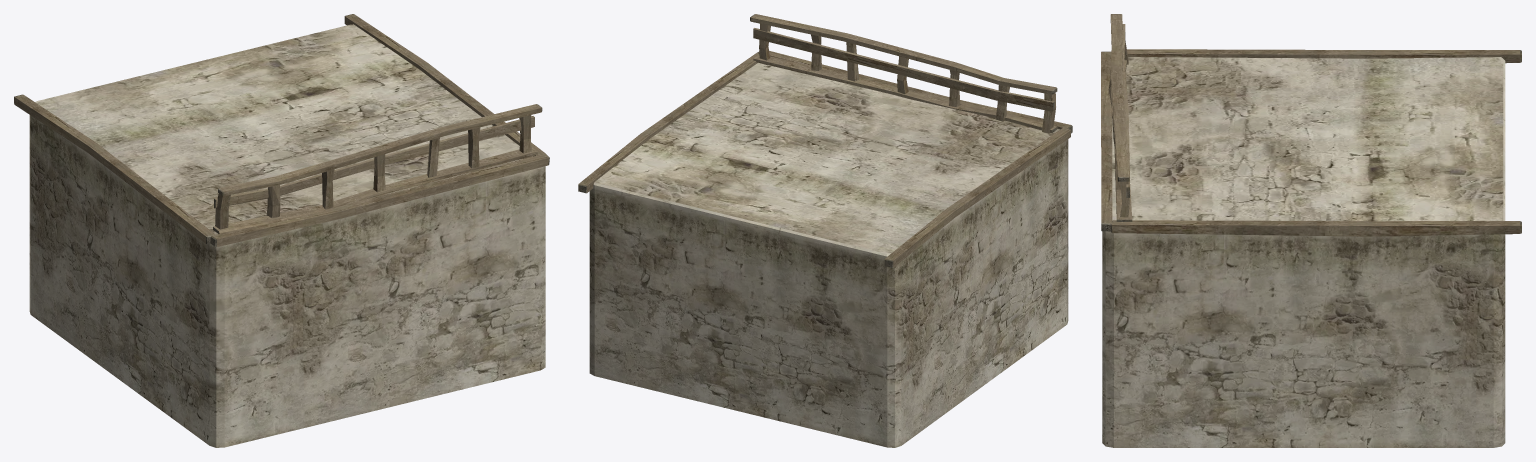
Rendered from TW2_5_HOUSE_02_10-transformed.glb.
3 views of the same model, side by side, from view 1: azimuth 30°, elevation 25°; view 2: azimuth 150°, elevation 25°; view 3: azimuth 270°, elevation 25° (orthographic). The views are drawn at different scales.
Visible parts, largest first — view 1: default; view 2: default; view 3: default.
Boxes of the visible parts, <box> form: default: <box>14,14,549,447</box>; default: <box>578,14,1072,447</box>; default: <box>1101,14,1521,447</box>.
Bounding box in the file's own units: 7.63 × 5.45 × 7.63.
2 materials, 2 textured.
